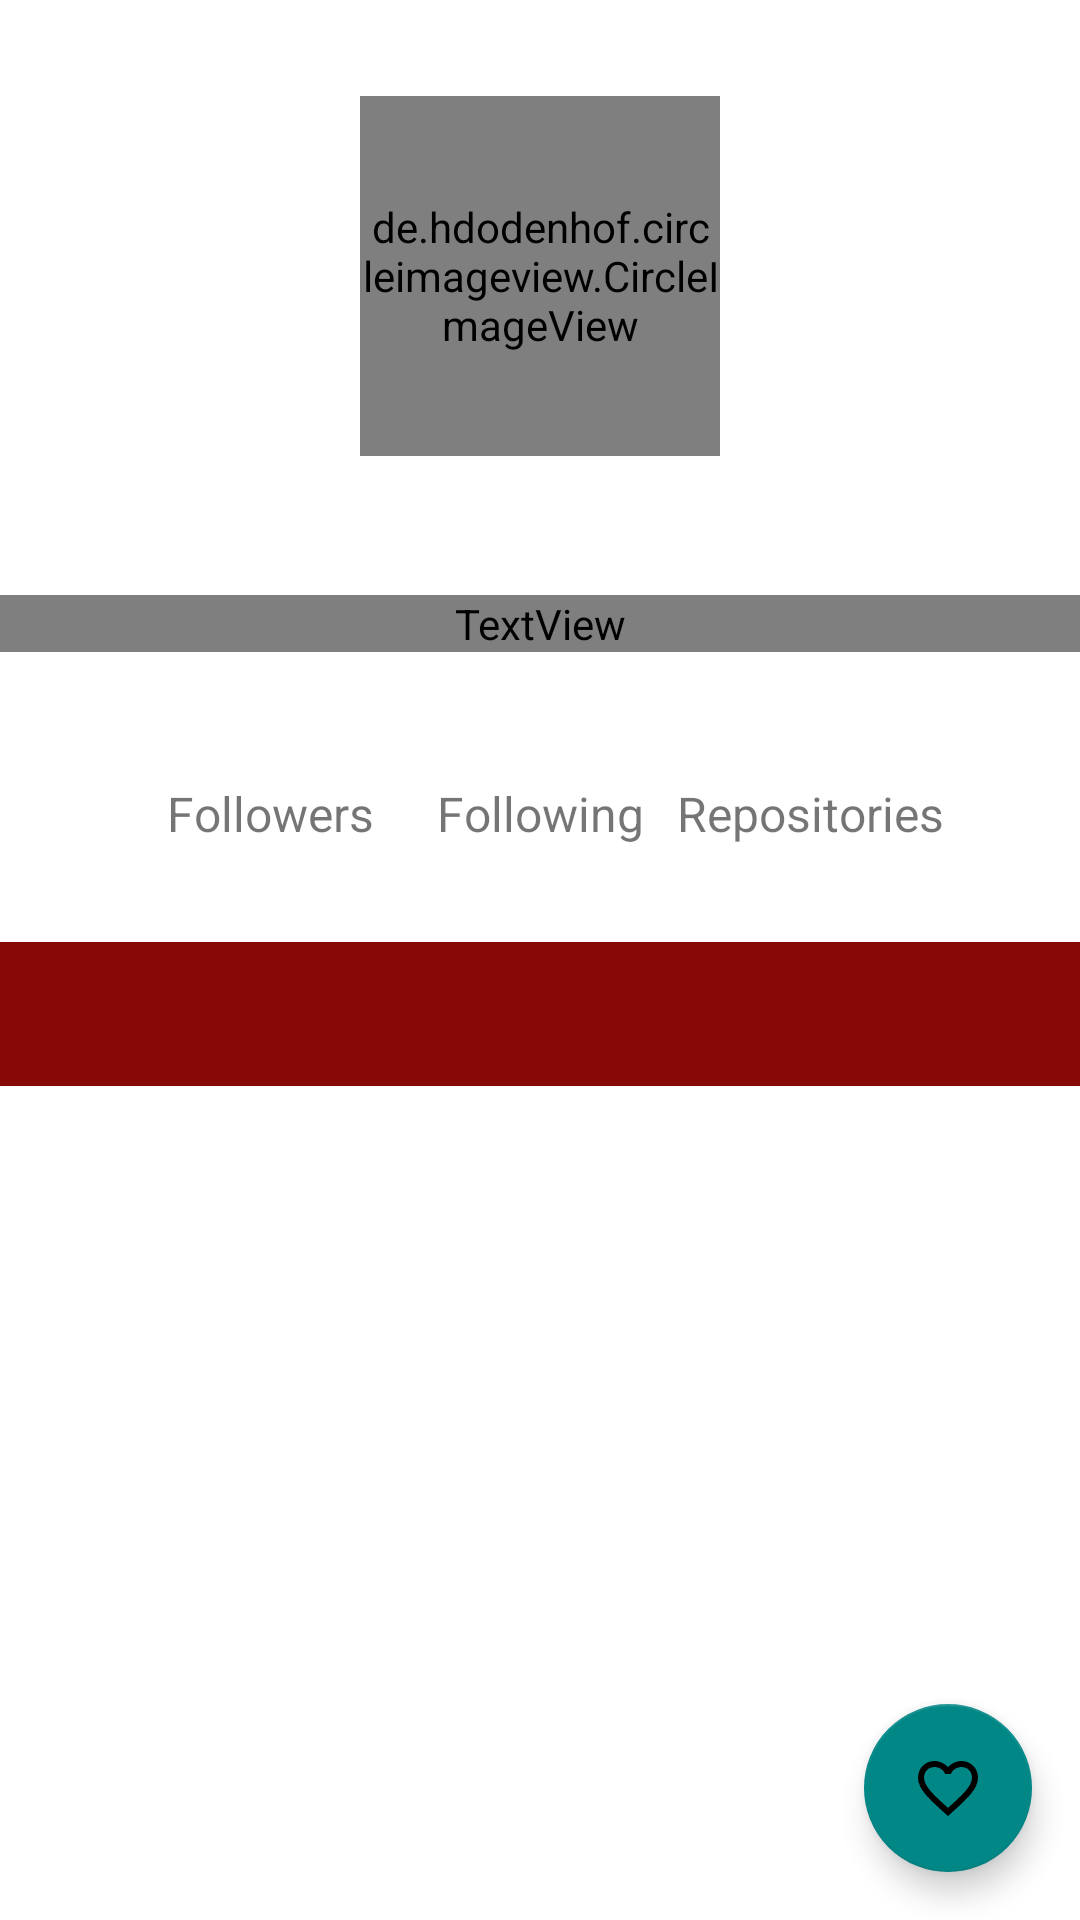

Where to tap for icons on this 1080*1920 app screen, as (x,y):
favorite border: (948,1788)
